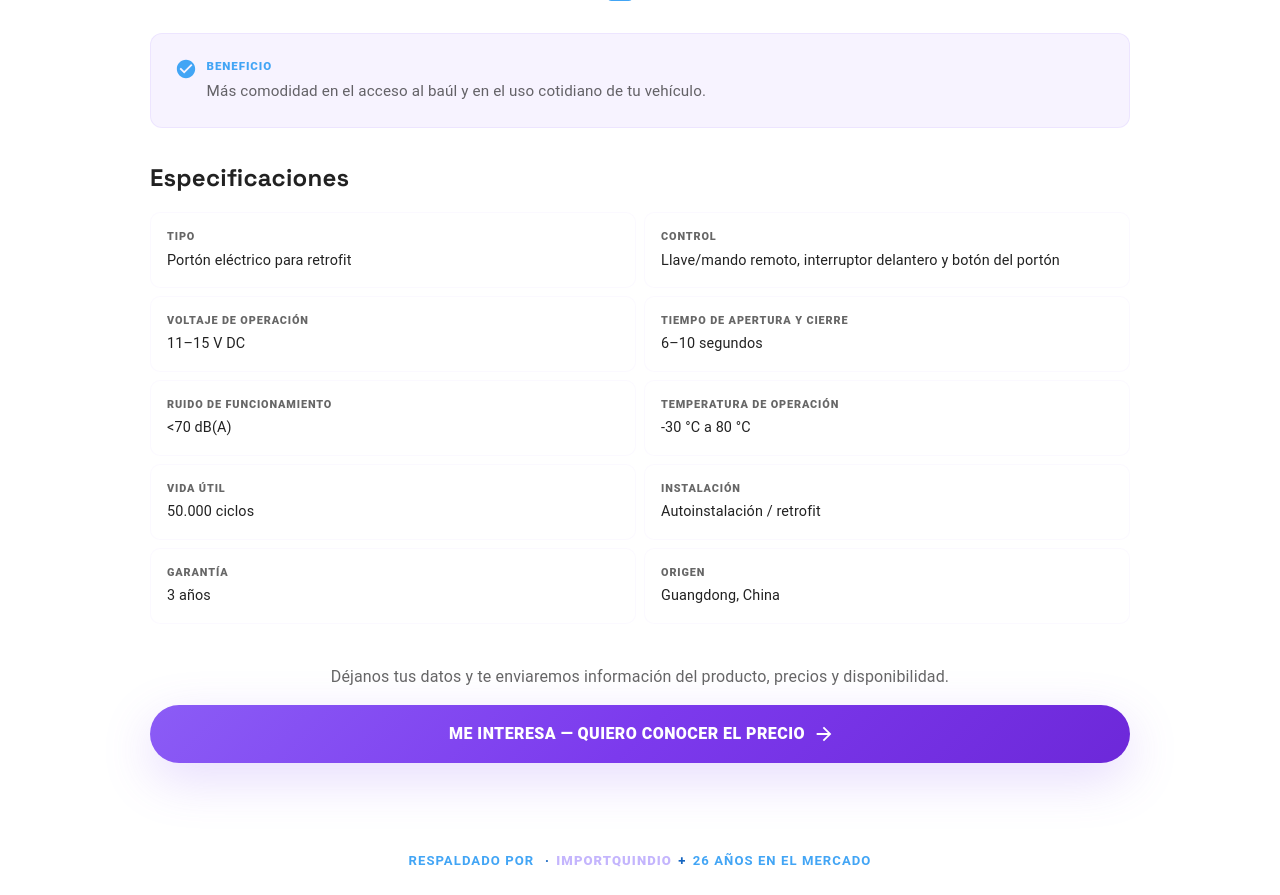
Scenario: ProductPage (ruta /vehiculos/$slug/productos/$productId) › el CTA "Me interesa" lleva a la página de interés
(page scrolled)
Click the button "Me interesa — quiero conocer el precio": (640, 734) [150,705,1130,763]
(page scrolled)
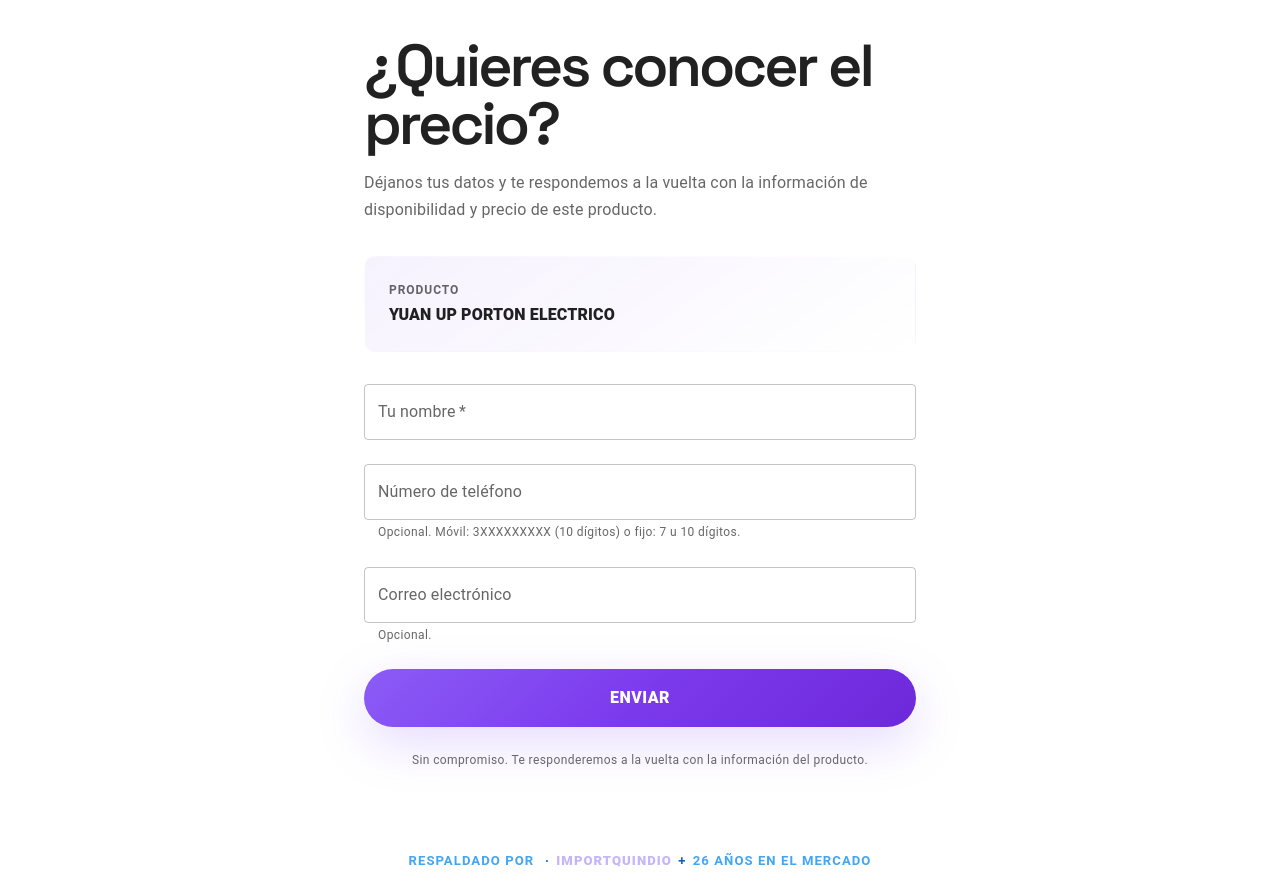
Expected: the heading "¿Quieres conocer el precio?" is shown, [364,37,916,153]
